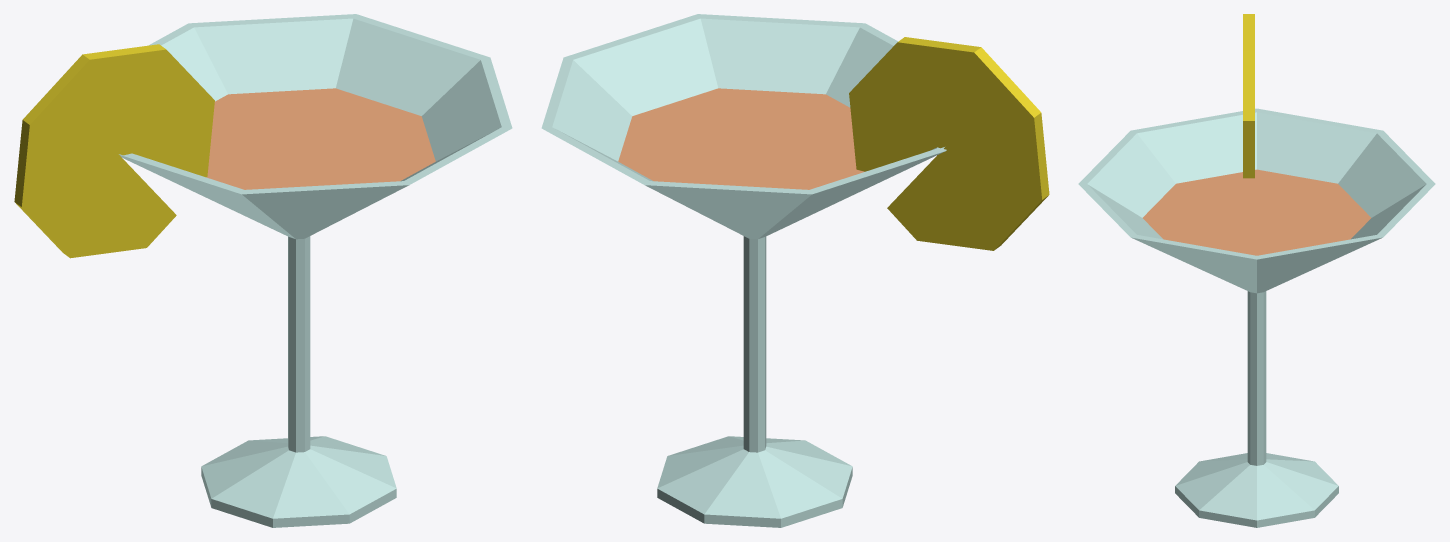
File: Cocktail.fbx
3 renders of one model, left to right at view 1: azimuth 30°, elevation 25°; view 2: azimuth 150°, elevation 25°; view 3: azimuth 270°, elevation 25°, orthographic. The views are drawn at different scales.
Parts seen in each view (by area): view 1: Cylinder; view 2: Cylinder; view 3: Cylinder.
Boxes of the visible parts, x1,y1,x2,y2 form: Cylinder: [14, 14, 512, 527]; Cylinder: [541, 14, 1049, 527]; Cylinder: [1078, 14, 1435, 527].
Bounding box in the file's own units: 154 × 150 × 124.
